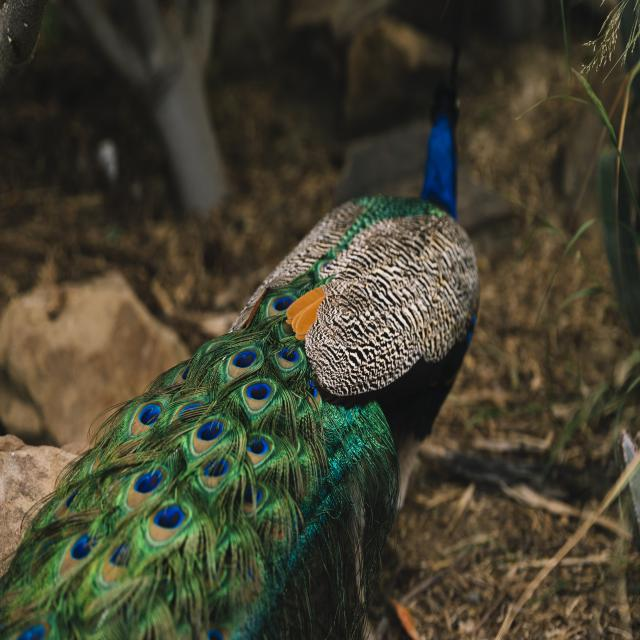peacock: (13, 31, 491, 609), (483, 594, 491, 608)
